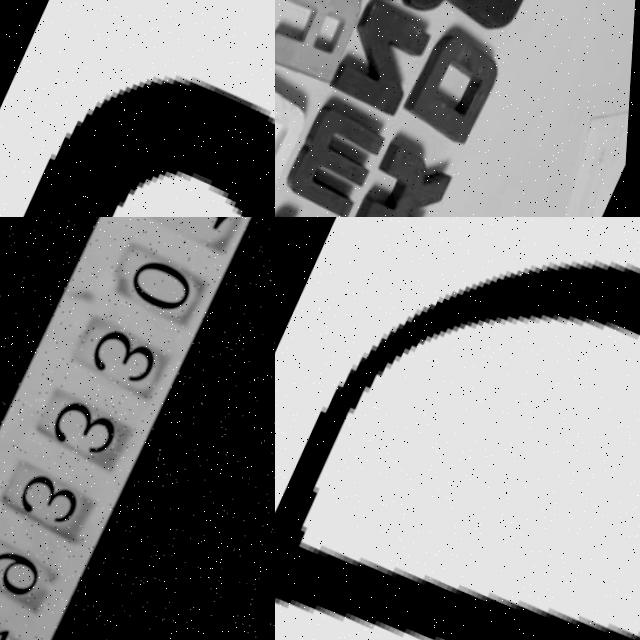0: (91, 220, 233, 352)
1: (126, 217, 266, 274)
3: (0, 25, 275, 217), (15, 362, 160, 497), (56, 291, 196, 423), (0, 440, 120, 563)
7: (0, 579, 53, 640)
9: (0, 513, 84, 634)
A: (446, 0, 552, 33)
D: (275, 217, 640, 640), (404, 16, 515, 144)
K: (355, 127, 461, 217)
N: (332, 0, 437, 116)
Q: (275, 67, 319, 187)
R: (275, 0, 369, 84)
W: (284, 91, 394, 217)
